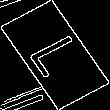L_NE: (21, 29, 89, 81)
